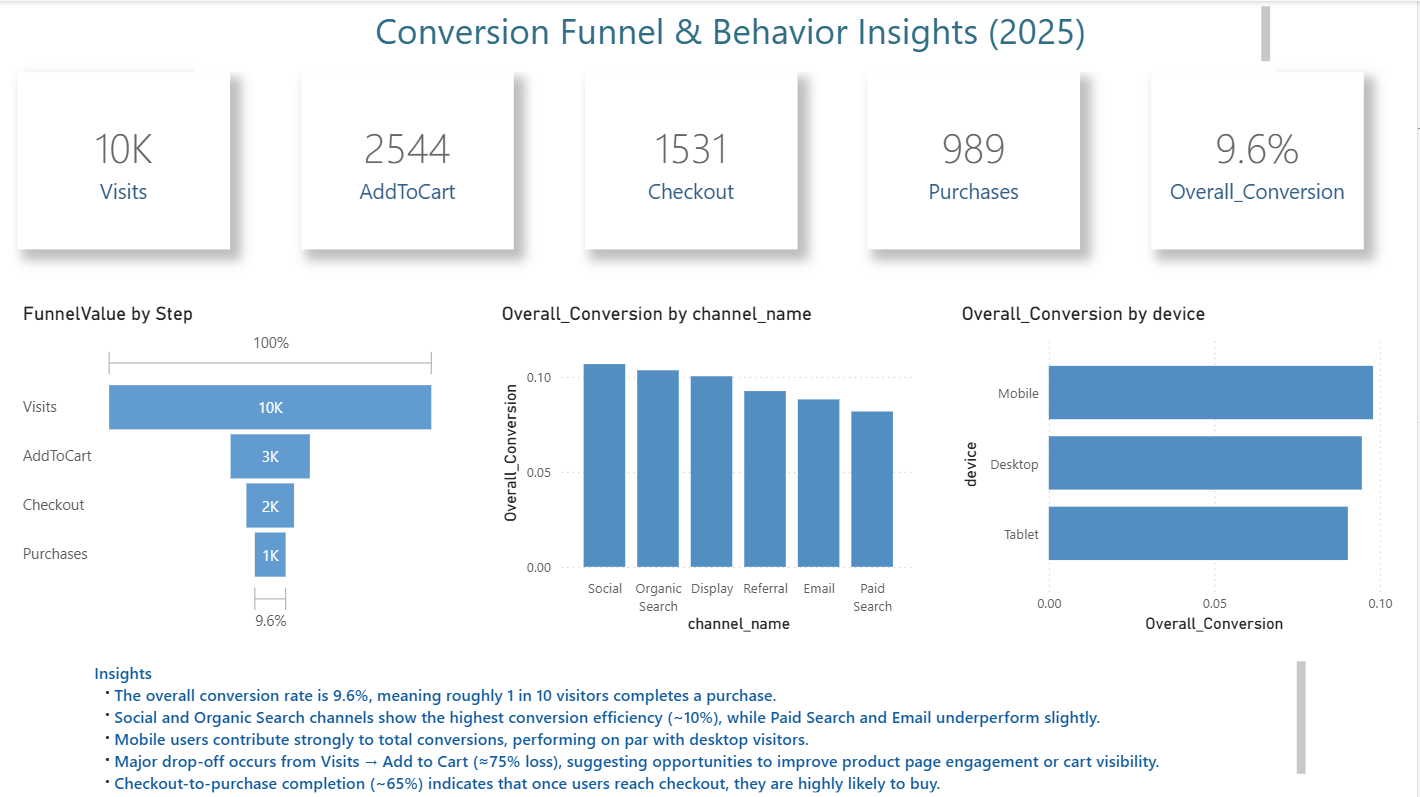

The dashboard page shown, as its layout file describes it:
{"tool":"powerbi","page":{"name":"Conversion Funnel","canvas":[1280,720],"ordinal":2},"visuals":[{"type":"card","fields":{"Values":["fact_web_events.Visits"]},"box":[16,64,192,160],"z":0},{"type":"card","fields":{"Values":["fact_web_events.AddToCart"]},"box":[272,64,192,160],"z":1000},{"type":"card","fields":{"Values":["fact_web_events.Checkout"]},"box":[528,64,192,160],"z":2000},{"type":"card","fields":{"Values":["fact_web_events.Overall_Conversion"]},"box":[1040,64,192,160],"z":3000},{"type":"card","fields":{"Values":["fact_web_events.Purchases"]},"box":[784,64,192,160],"z":4000},{"type":"textbox","box":[176,0,976,64],"z":5000},{"type":"funnel","fields":{"Category":["FunnelSteps.Step"],"Y":["FunnelSteps.FunnelValue"]},"box":[16,272,384,304],"z":6000},{"type":"columnChart","fields":{"Category":["dim_channel.channel_name"],"Y":["fact_web_events.Overall_Conversion"]},"box":[448,272,384,304],"z":7000},{"type":"barChart","fields":{"Category":["fact_web_events.device"],"Y":["fact_web_events.Overall_Conversion"]},"box":[864,272,400,304],"z":8000},{"type":"textbox","box":[80,592,1104,128],"z":9000}]}

Visuals, with their boxes in screenshot pixels (x1, y1, x2, y2), scaled from the page's 1280x720 canvas onto the 1420x797 screenshot:
card - fact_web_events.Visits: 18:71:231:248
card - fact_web_events.AddToCart: 302:71:515:248
card - fact_web_events.Checkout: 586:71:799:248
card - fact_web_events.Overall_Conversion: 1154:71:1367:248
card - fact_web_events.Purchases: 870:71:1083:248
textbox: 195:0:1278:71
funnel - FunnelSteps.Step x FunnelSteps.FunnelValue: 18:301:444:638
columnChart - dim_channel.channel_name x fact_web_events.Overall_Conversion: 497:301:923:638
barChart - fact_web_events.device x fact_web_events.Overall_Conversion: 958:301:1402:638
textbox: 89:655:1314:796
